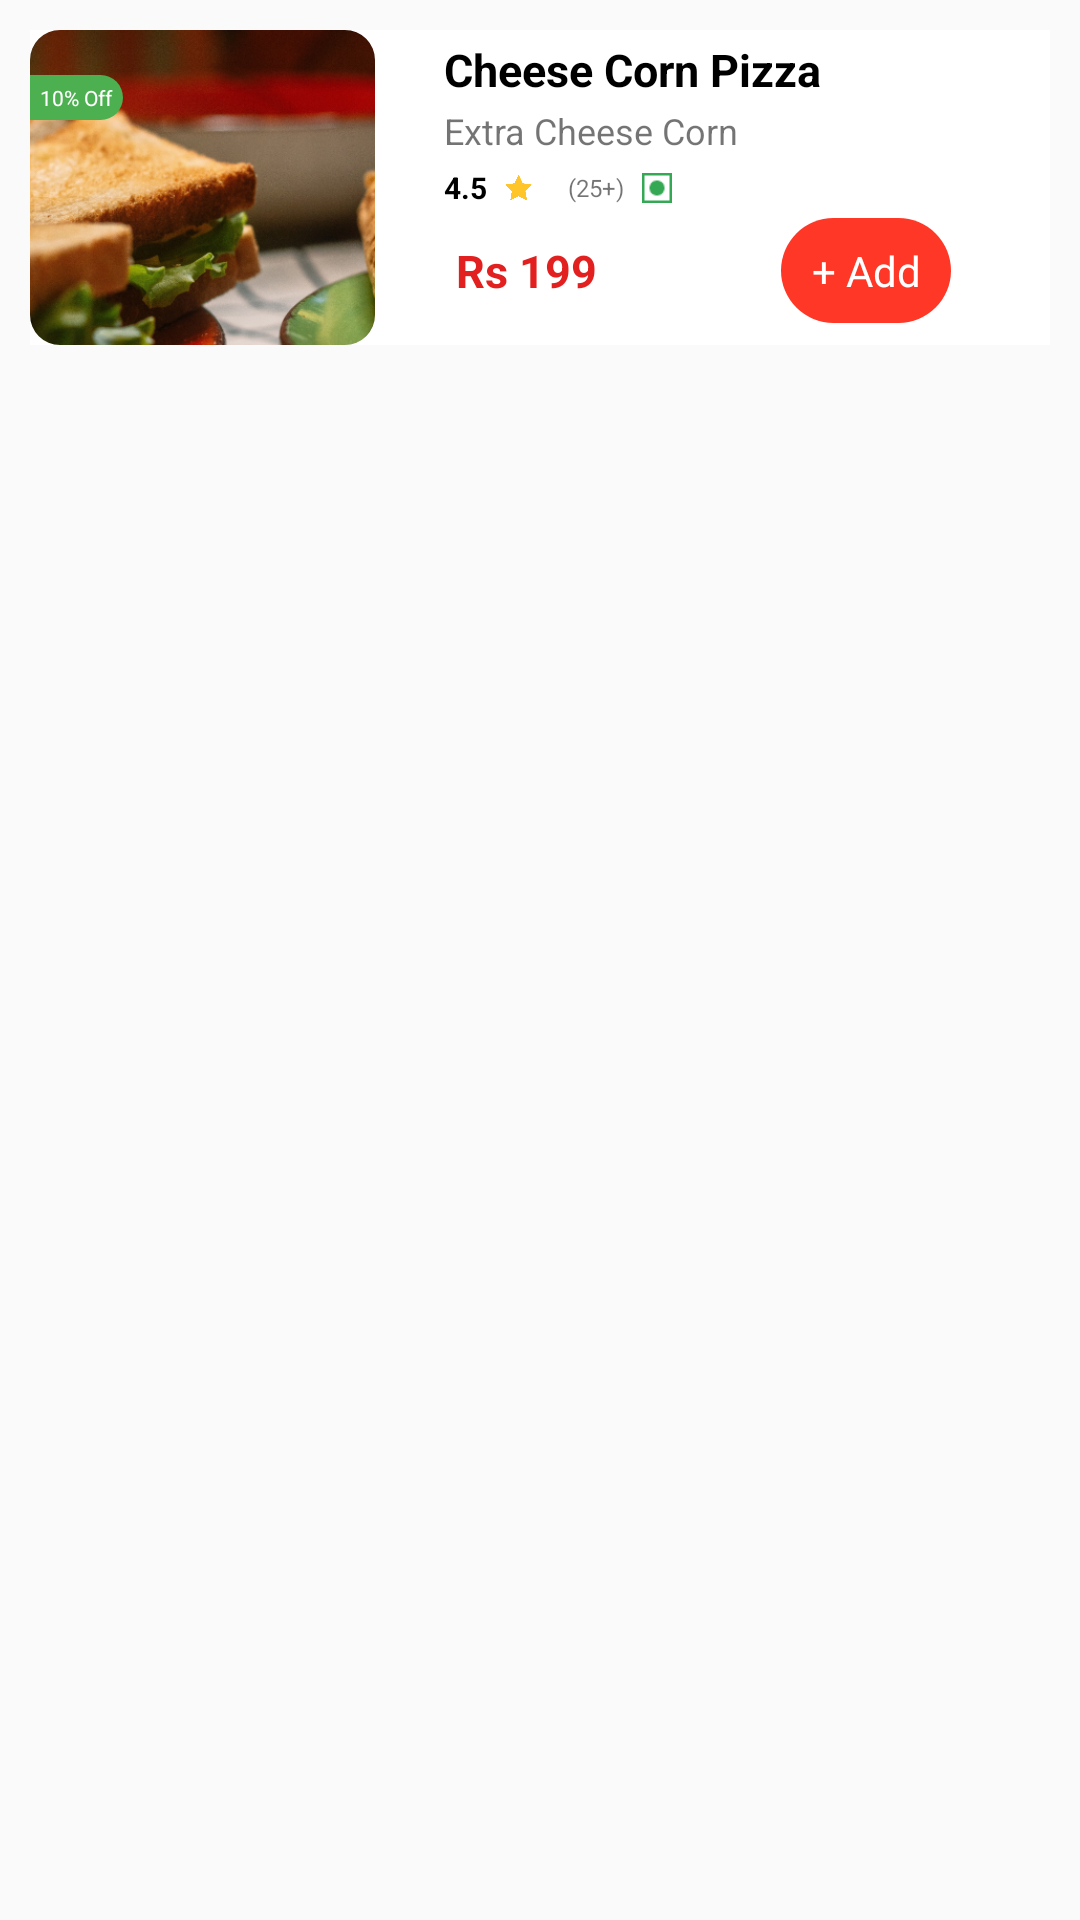

Icon bounding boxes for this 1080px×1920px phone screenshot, format (x1,y1,x2,y2):
food: (30,30,375,345)
star: (506,175,532,200)
veg: (642,173,672,203)
